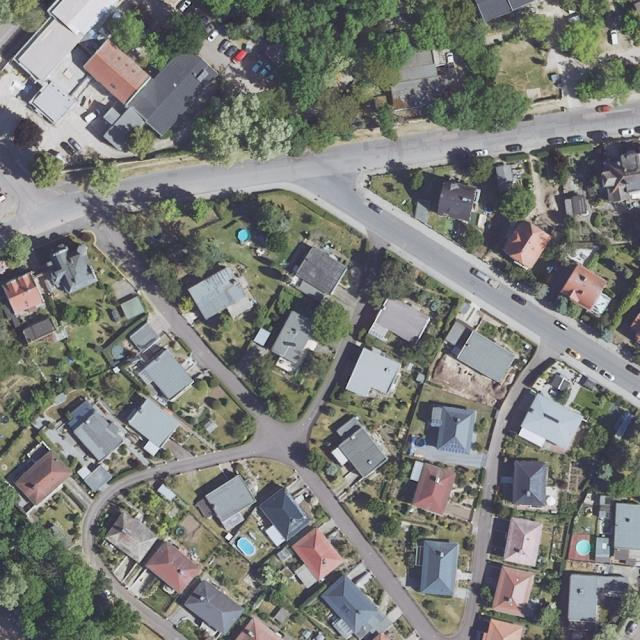PV: (439, 438, 467, 455)
ST: (341, 603, 351, 615), (431, 417, 443, 424)
